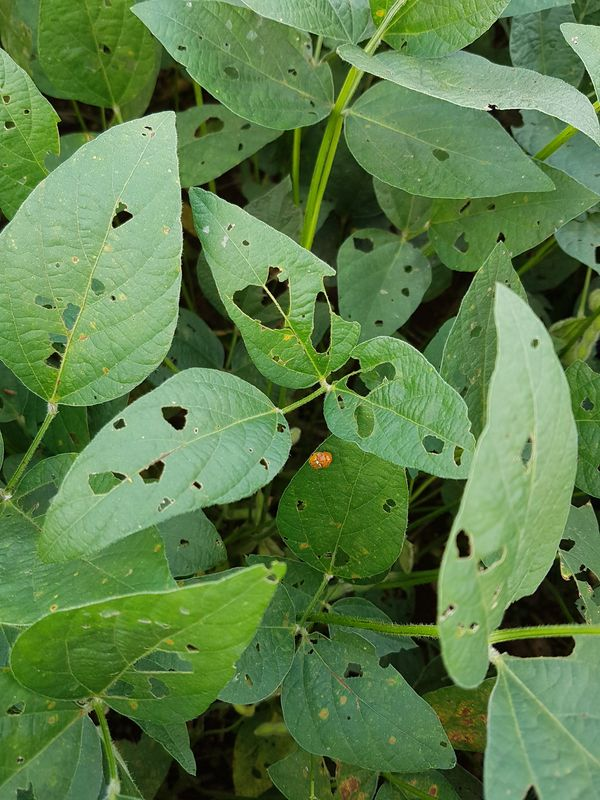Coccinellidae: (317, 447, 335, 470), (306, 449, 318, 473)
